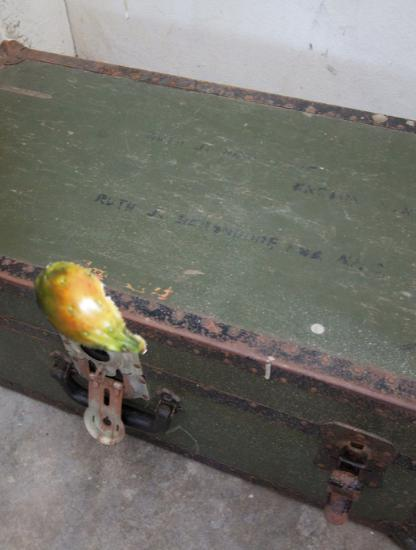Cactus: (23, 251, 155, 383)
